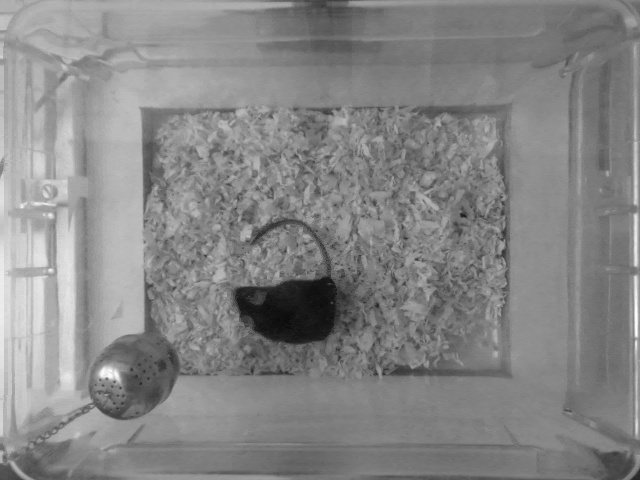mice: (230, 210, 346, 347)
